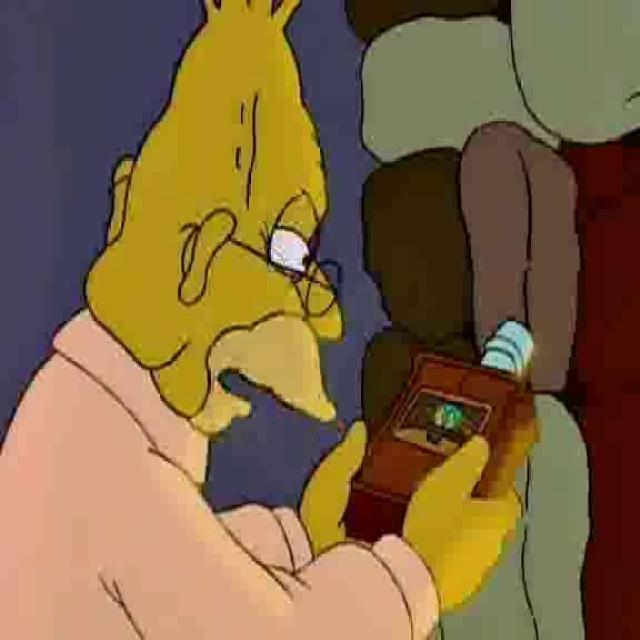Abraham Grampa Simpson: (82, 3, 350, 440)
